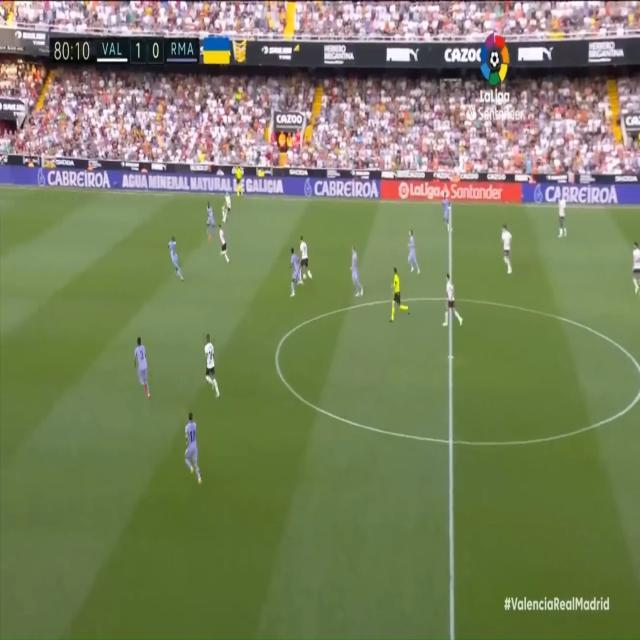ball: (303, 270, 308, 281)
player: (182, 408, 204, 489), (202, 326, 222, 401), (442, 270, 465, 331), (135, 331, 153, 403), (165, 231, 186, 287), (348, 236, 362, 303), (287, 242, 302, 302), (297, 232, 314, 283), (499, 224, 514, 281), (408, 230, 424, 278), (204, 197, 221, 242), (217, 218, 232, 265), (556, 189, 569, 240), (441, 192, 455, 238), (220, 189, 234, 232), (631, 237, 640, 300)
referee: (387, 266, 413, 322), (231, 160, 245, 202)
